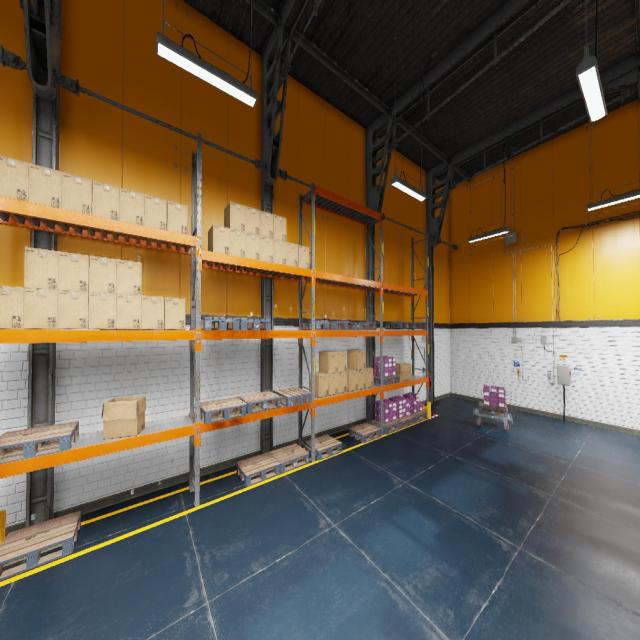box: (101, 396, 146, 438), (28, 163, 62, 208), (24, 246, 58, 290), (23, 288, 58, 329), (0, 156, 29, 202), (58, 251, 89, 292), (62, 172, 92, 214), (58, 290, 88, 329), (89, 292, 118, 330), (92, 180, 119, 220), (89, 256, 117, 294), (0, 286, 24, 329), (119, 187, 144, 225), (116, 259, 142, 295), (116, 294, 141, 329), (144, 194, 167, 230), (141, 296, 164, 330), (166, 200, 188, 234), (164, 297, 185, 329), (208, 224, 230, 254), (224, 201, 245, 232), (309, 372, 328, 397), (318, 351, 338, 373), (245, 206, 260, 235), (230, 228, 245, 257), (245, 232, 260, 260), (348, 368, 366, 389), (348, 349, 366, 370), (260, 210, 273, 238), (260, 236, 273, 262), (331, 350, 346, 372), (274, 215, 286, 241), (274, 239, 286, 264), (286, 242, 298, 266), (298, 245, 310, 268), (396, 362, 411, 380), (347, 368, 358, 391), (328, 373, 338, 395), (338, 372, 346, 394), (366, 367, 373, 387)
pallets: (0, 510, 81, 581), (0, 421, 79, 463), (236, 452, 280, 487), (200, 397, 247, 424), (269, 444, 309, 474), (237, 391, 281, 414), (305, 434, 342, 460), (273, 387, 311, 407), (348, 422, 381, 442), (201, 317, 239, 330), (370, 419, 401, 434), (479, 401, 508, 417), (240, 318, 270, 330), (302, 320, 336, 330), (395, 415, 415, 428), (373, 375, 399, 385), (329, 321, 356, 330), (410, 410, 428, 422), (351, 322, 376, 330), (385, 322, 414, 328), (403, 322, 426, 328)
